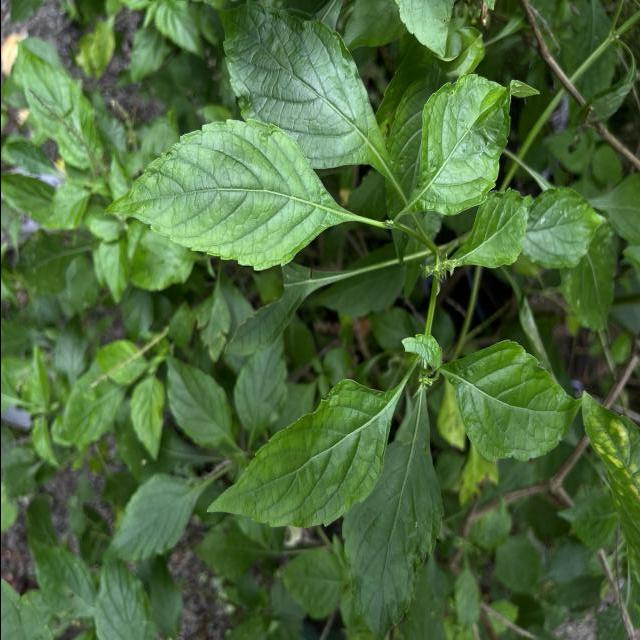Ocimum gratissimum: (99, 116, 374, 276), (205, 0, 403, 191), (204, 376, 407, 532), (338, 392, 447, 640), (396, 73, 544, 218), (434, 337, 584, 467), (445, 186, 535, 270)
